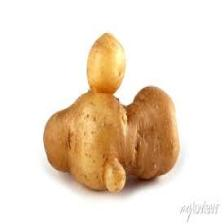Damaged potato: (39, 25, 186, 208)
